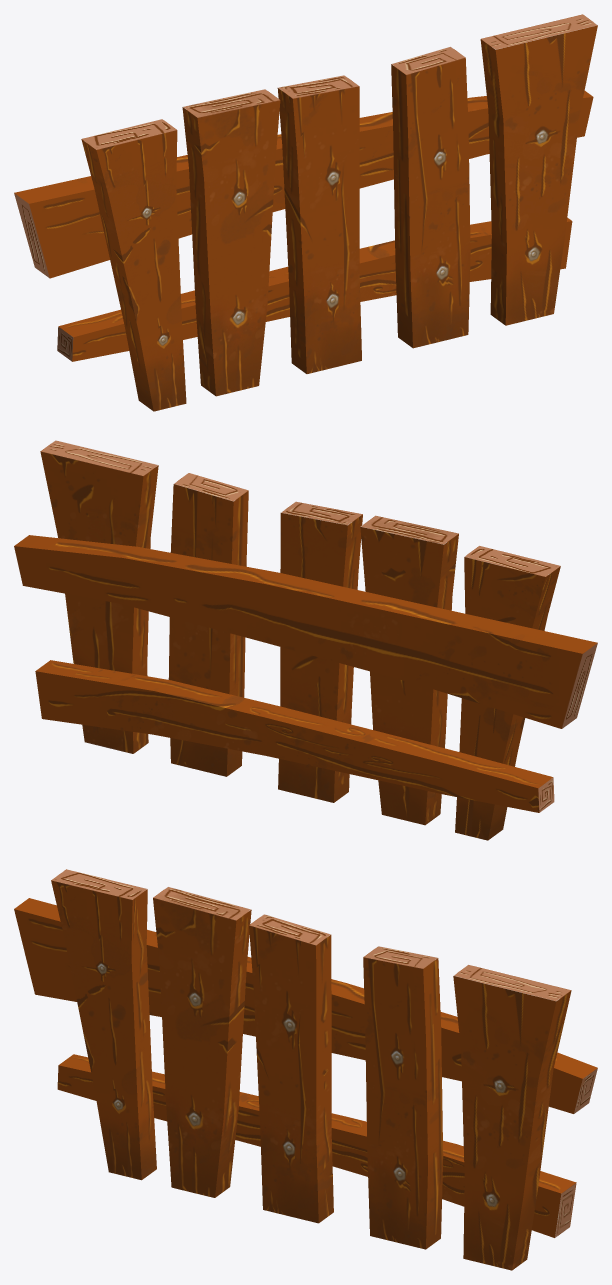
Rendered from Fence-02.fbx.
The picture shows the model from 3 angles, top to bottom: view 1: azimuth 30°, elevation 25°; view 2: azimuth 150°, elevation 25°; view 3: azimuth 330°, elevation 25°; orthographic projection.
Visible parts, largest first — view 1: fence_02; view 2: fence_02; view 3: fence_02.
Part boxes in pixels (<box>): fence_02: <box>14,14,597,411</box>; fence_02: <box>14,440,597,840</box>; fence_02: <box>14,869,597,1270</box>.
Size of the model in its own units: 501 by 240 by 46.68.
Materials: 1 (1 with a texture image).
